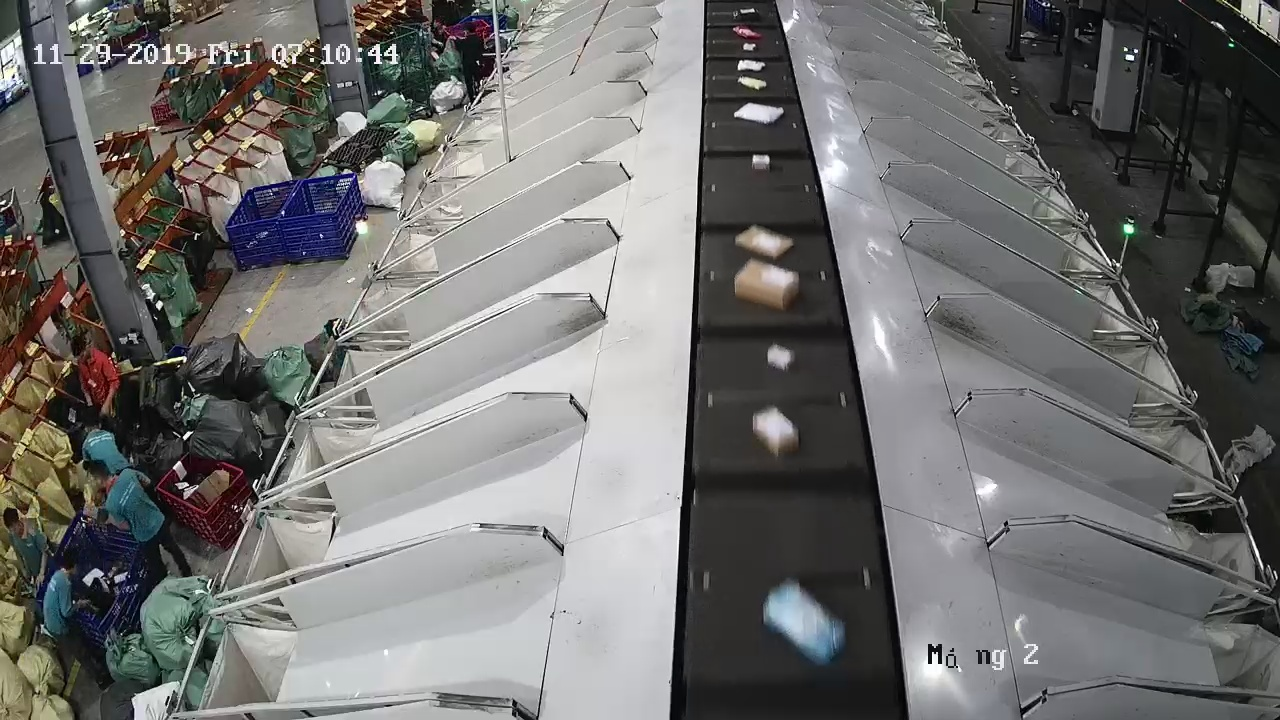parcel: (762, 578, 847, 668), (733, 259, 800, 311), (752, 409, 799, 457), (736, 225, 795, 258), (733, 102, 784, 125), (766, 343, 795, 373), (751, 153, 771, 173)
